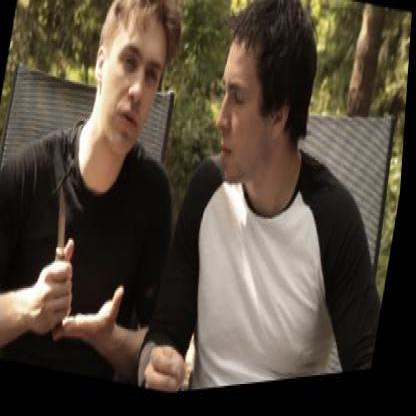knife: (36, 169, 96, 304)
